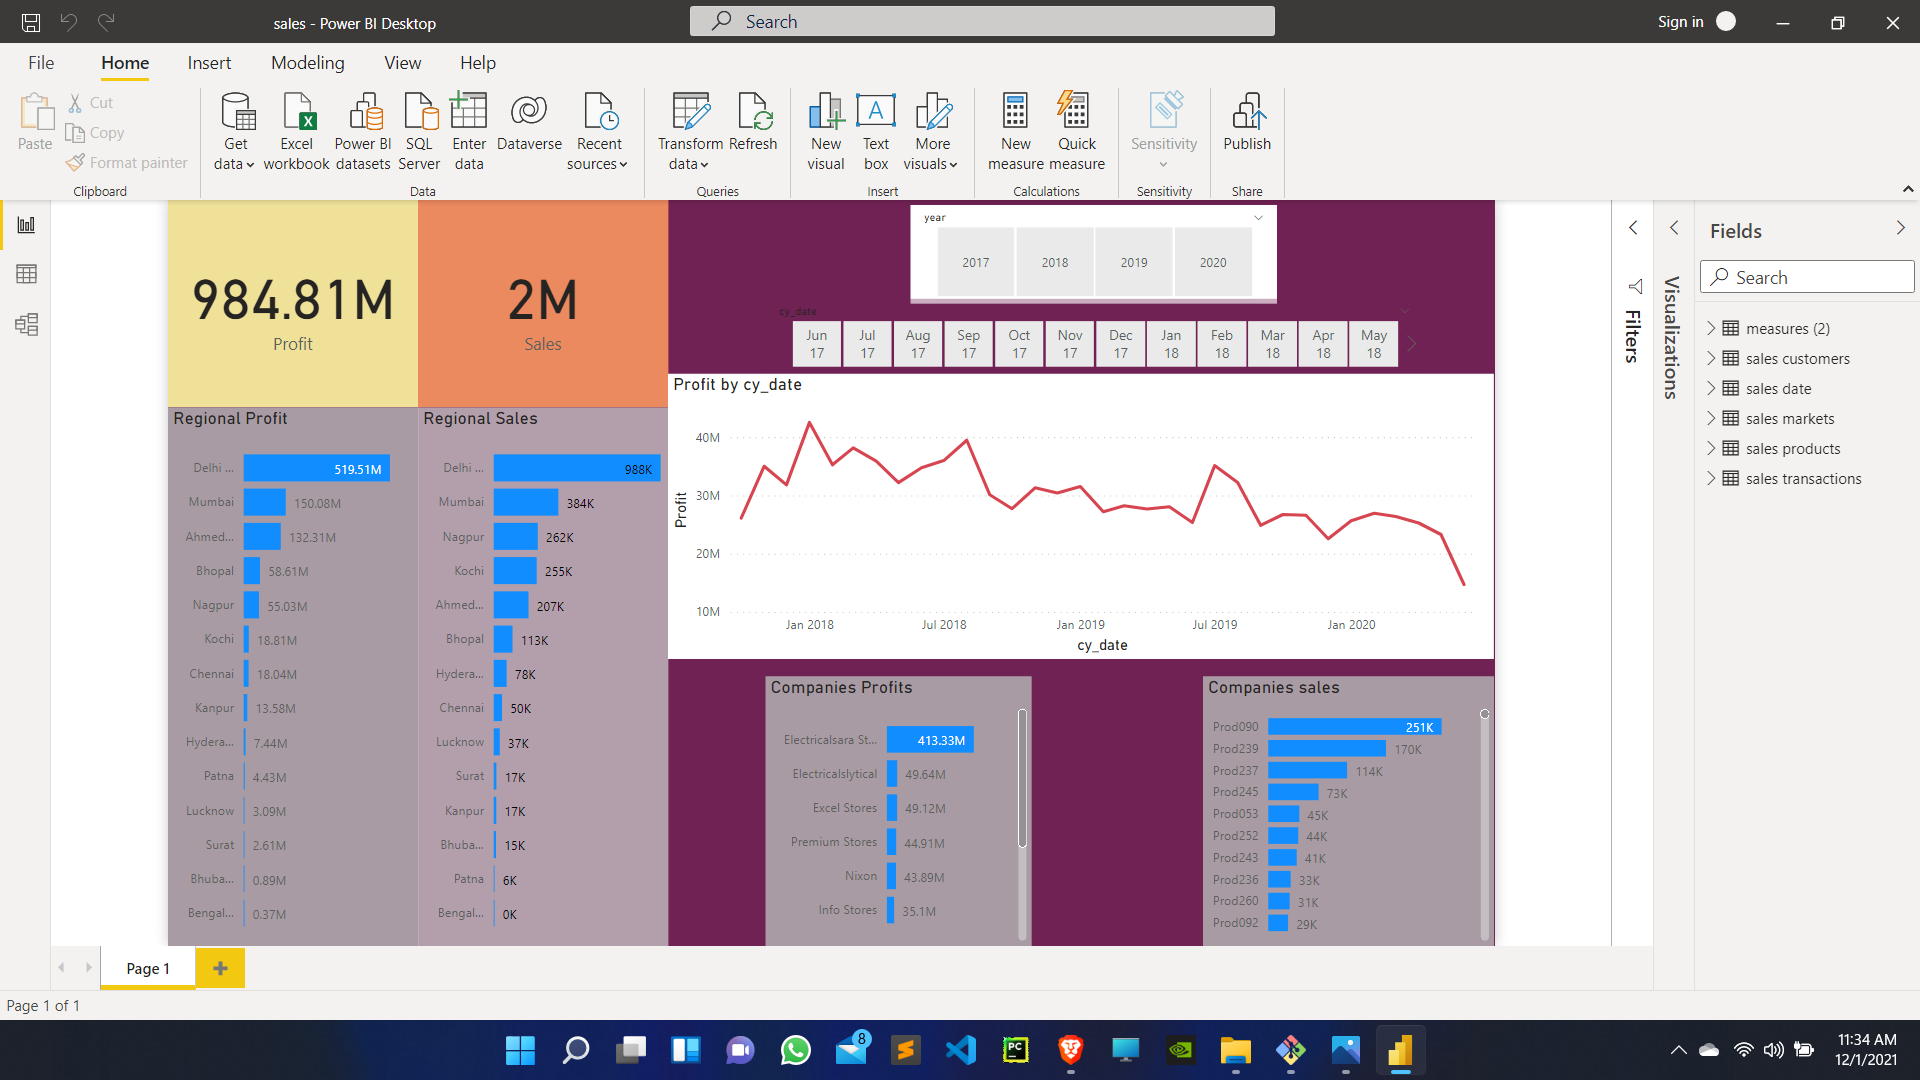

What the dashboard file says about the page in this screenshot:
{"tool":"powerbi","page":{"name":"Page 1","canvas":[1280,720],"ordinal":0},"visuals":[{"type":"card","fields":{"Values":["measures (2).Profit"]},"box":[0,0,241.2,200.2],"z":0},{"type":"card","fields":{"Values":["measures (2).Sales"]},"box":[241.2,0,241.2,200.2],"z":1000},{"type":"barChart","title":"Regional Profit","fields":{"Y":["measures (2).Profit"],"Category":["sales markets.markets_name"]},"box":[0,200.2,241.2,519.8],"z":2000},{"type":"barChart","title":"Regional Sales","fields":{"Y":["measures (2).Sales"],"Category":["sales markets.markets_name"]},"box":[241.2,200.2,241.2,519.8],"z":3000},{"type":"slicer","fields":{"Values":["sales date.year"]},"box":[716.4,4.8,353.4,95.3],"z":4000},{"type":"slicer","fields":{"Values":["sales date.cy_date"]},"box":[576.5,95.3,634.4,72.4],"z":5000},{"type":"barChart","title":"Companies Profits","fields":{"Y":["measures (2).Profit"],"Category":["sales customers.custmer_name"]},"box":[576.5,459.5,256.9,260.5],"z":6000},{"type":"barChart","title":"Companies sales","fields":{"Y":["measures (2).Sales"],"Category":["sales products.product_code"]},"box":[998.6,459.5,281,260.5],"z":7000},{"type":"lineChart","fields":{"Y":["measures (2).Profit"],"Category":["sales date.cy_date"]},"box":[482.4,167.6,797.2,275],"z":8000}]}

Visuals, with their boxes on the page's 1280x720 design canvas (x1, y1, x2, y2). These are canvas units, not pixel positions in the 1920x1080 screenshot, which may show the page scaled, cropped or inside an application window:
card - measures (2).Profit: pyautogui.locateOnScreen(0, 0, 241, 200)
card - measures (2).Sales: pyautogui.locateOnScreen(241, 0, 482, 200)
"Regional Profit" barChart: pyautogui.locateOnScreen(0, 200, 241, 720)
"Regional Sales" barChart: pyautogui.locateOnScreen(241, 200, 482, 720)
slicer - sales date.year: pyautogui.locateOnScreen(716, 5, 1070, 100)
slicer - sales date.cy_date: pyautogui.locateOnScreen(576, 95, 1211, 168)
"Companies Profits" barChart: pyautogui.locateOnScreen(576, 460, 833, 720)
"Companies sales" barChart: pyautogui.locateOnScreen(999, 460, 1280, 720)
lineChart - measures (2).Profit x sales date.cy_date: pyautogui.locateOnScreen(482, 168, 1280, 443)
